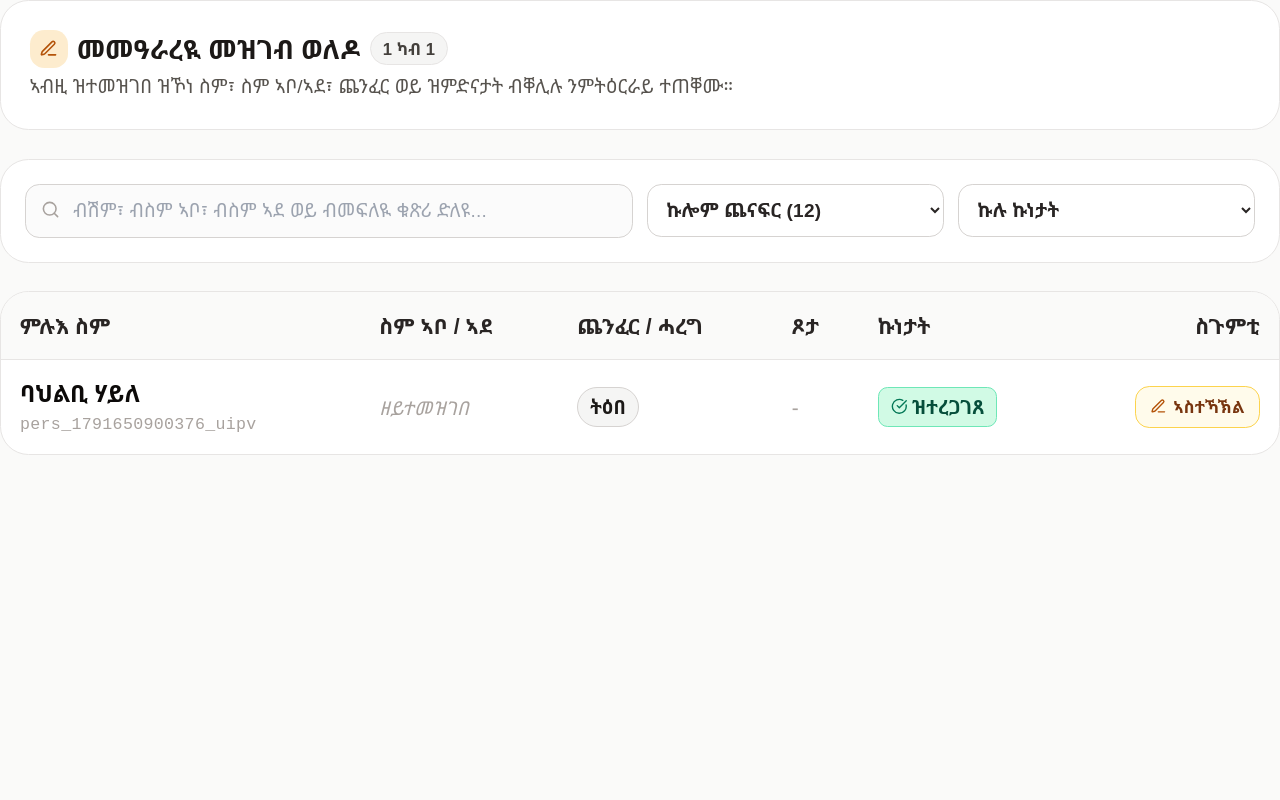
Test case: UI Navigation, Tree Interaction, and Safety Verification › 12. RecordEditorView: automatically extracts and transfers names after space from canonicalName to fatherName
# Open edit modal for person
Click the button "ኣስተኻኽል".
click(1197, 407)  # box x1=1134 y1=386 x2=1260 y2=428
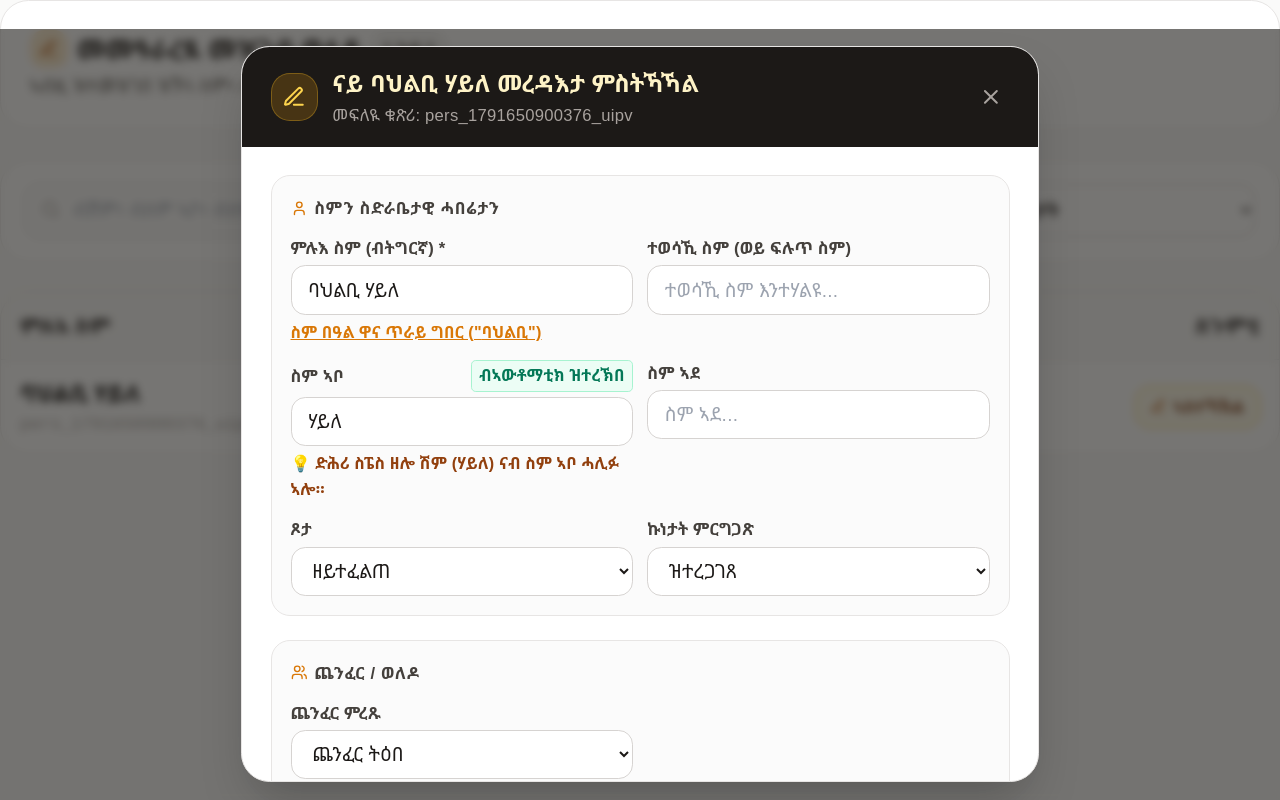
Expected: the field with placeholder "ስም ኣቦ..." below "ብኣውቶማቲክ ዝተረኽበ" holds "ሃይለ", x1=290 y1=397 x2=633 y2=446
Replace the text in the field with placeholder "ምሉእ ስም የእትዉ..." below "ምሉእ ስም (ብትግርኛ) *" with "ባህልቢ ሃይለ ገብረሚካኤል" at (462, 290), box x1=290 y1=265 x2=633 y2=315
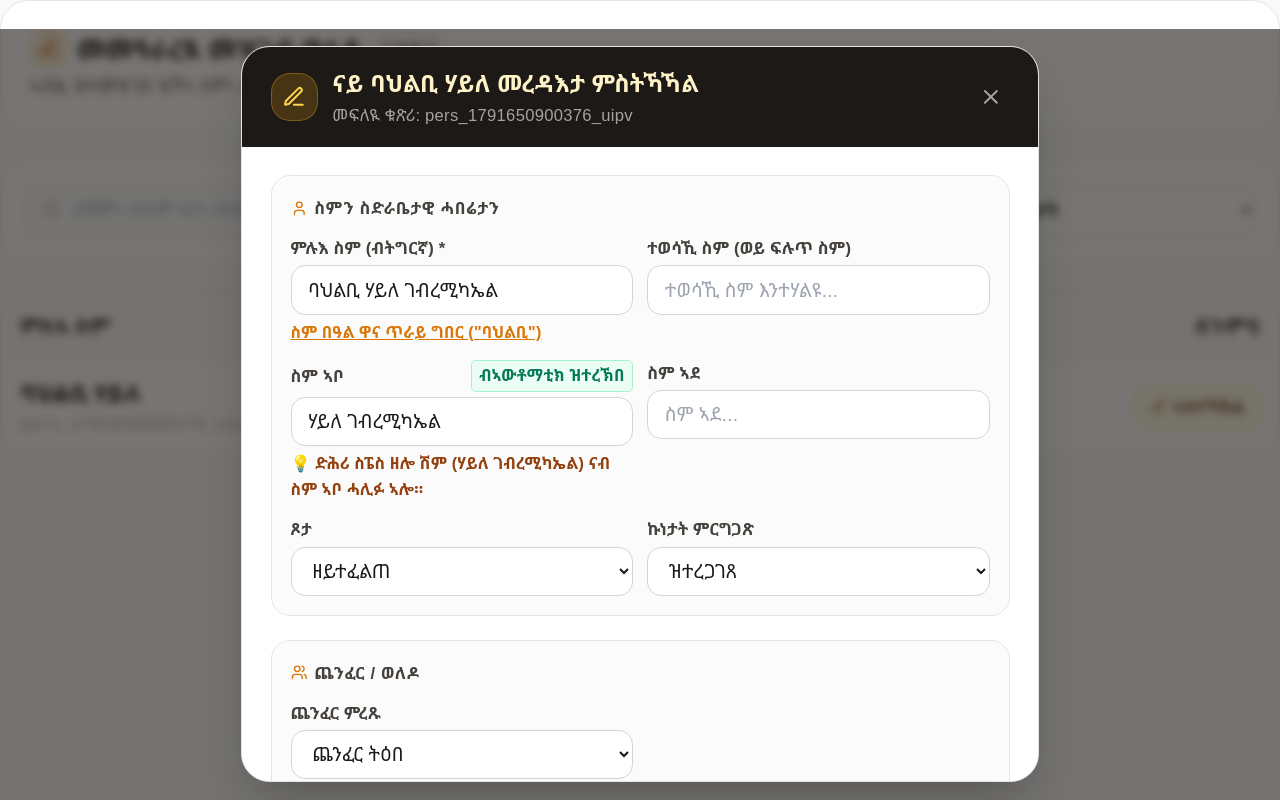
Expected: the field with placeholder "ስም ኣቦ..." below "ብኣውቶማቲክ ዝተረኽበ" holds "ሃይለ ገብረሚካኤል", x1=290 y1=397 x2=633 y2=446
